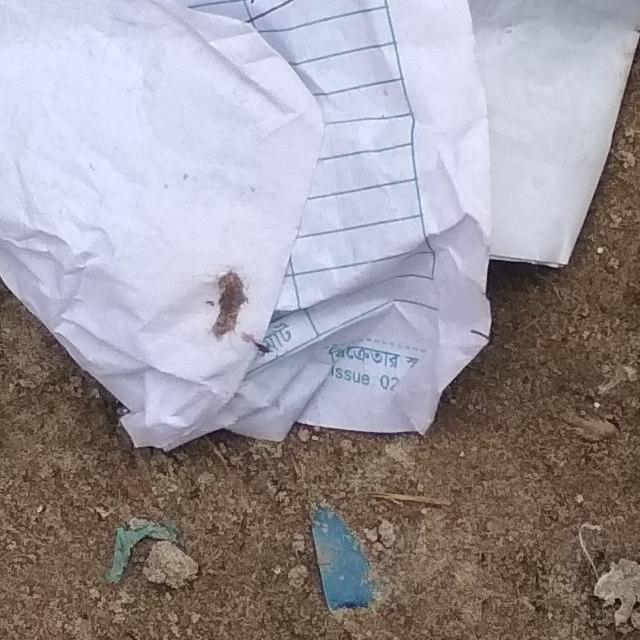paper: (0, 0, 640, 477), (171, 0, 640, 640)
